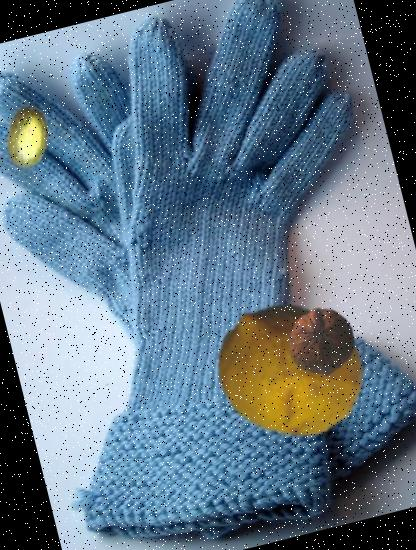Lemon: (202, 280, 381, 459)
Melon: (0, 99, 68, 174)
Walnut: (280, 300, 364, 384)
